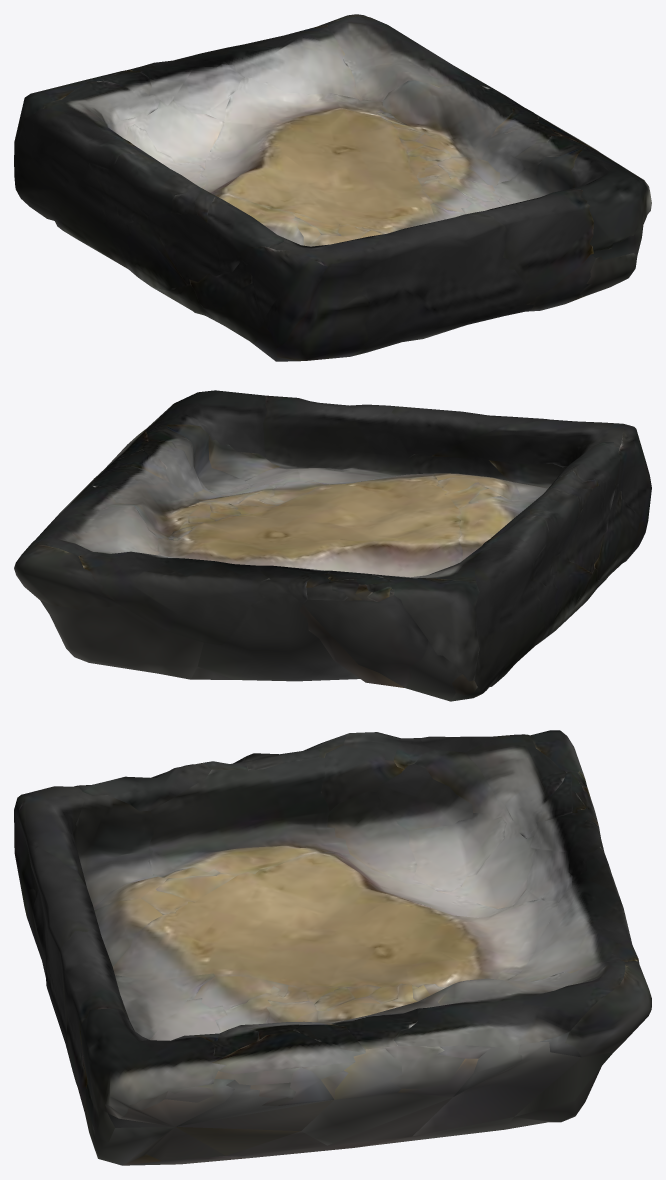
The model's file is hall.glb.
The picture shows the model from 3 angles, top to bottom: view 1: azimuth 30°, elevation 25°; view 2: azimuth 150°, elevation 25°; view 3: azimuth 270°, elevation 25°; orthographic projection. The views are drawn at different scales.
Size of the model in its own units: 0.7023 by 0.2541 by 0.6799.
1 material, 1 textured.
